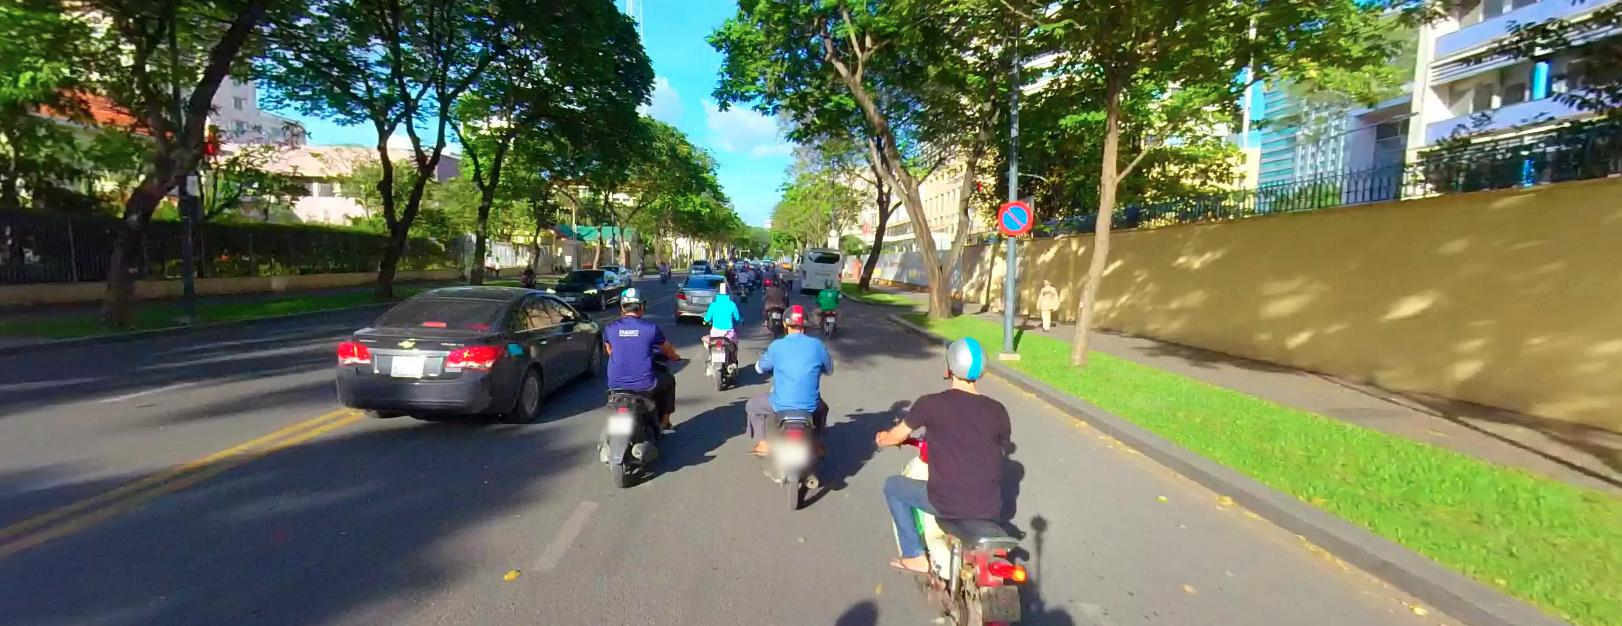Cam dung va do: (997, 198, 1033, 233)
